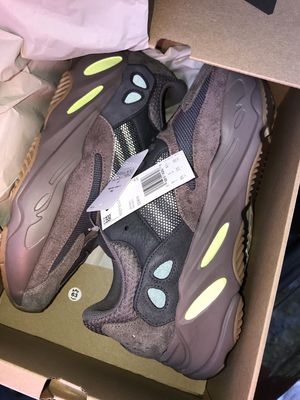adidas Yeezy 700 Mauve: (79, 17, 277, 390), (1, 39, 194, 310)
